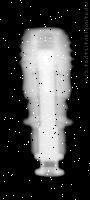Cowellmedi: (18, 26, 74, 178)
